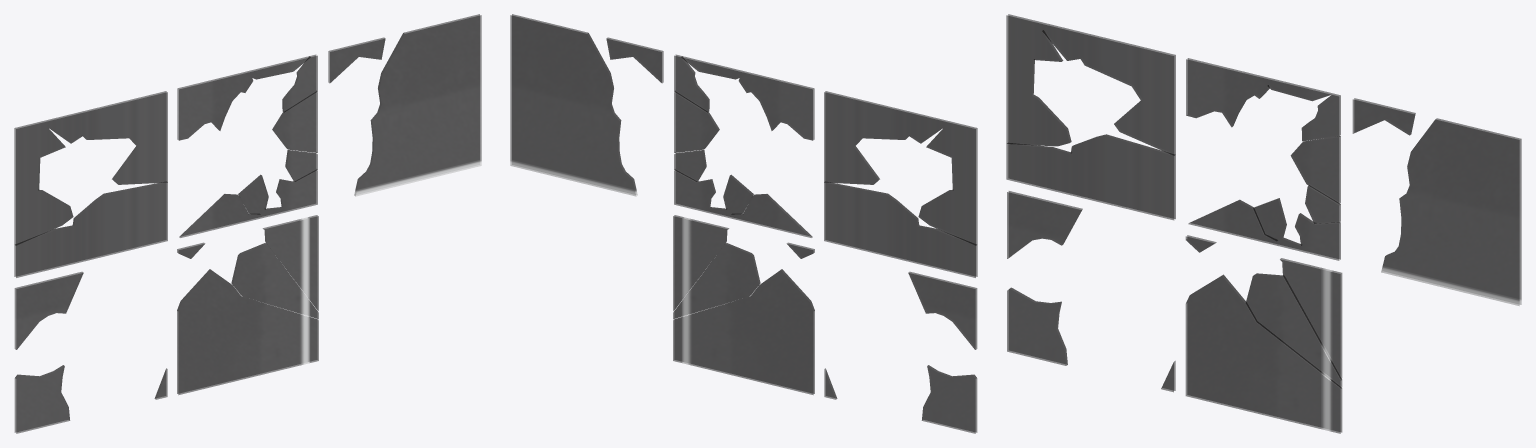
File: Window_Glass_broken.fbx
The picture shows the model from 3 angles, left to right: view 1: azimuth 30°, elevation 25°; view 2: azimuth 150°, elevation 25°; view 3: azimuth 330°, elevation 25°; orthographic projection. The views are drawn at different scales.
Parts seen in each view (by area): view 1: Window_Glass_broken; view 2: Window_Glass_broken; view 3: Window_Glass_broken.
Part boxes in pixels (<box>): Window_Glass_broken: <box>14,14,481,433</box>; Window_Glass_broken: <box>510,14,977,433</box>; Window_Glass_broken: <box>1006,14,1521,433</box>.
Size of the model in its own units: 86.62 by 54.45 by 0.5002.
